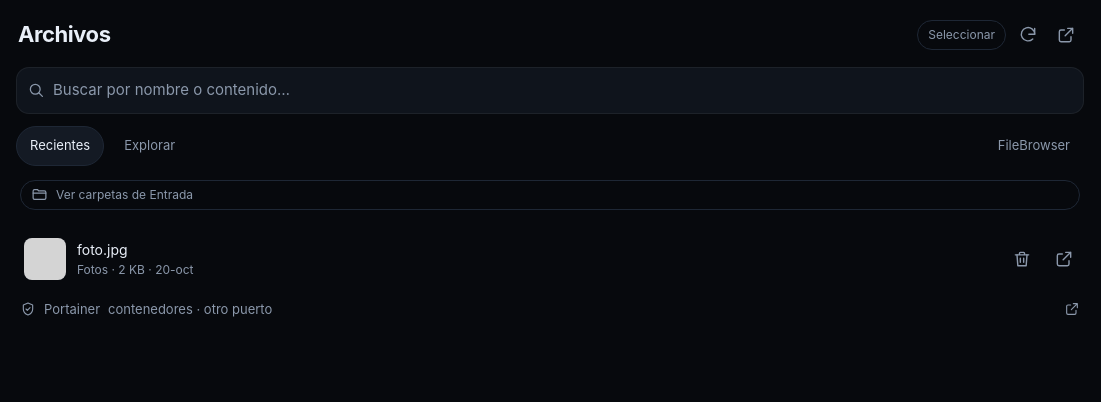
Test: Files · panel NAS nativo › «Todos» marca lo visible y «Ninguno» lo desmarca
This screenshot has width=1101, height=402.
expect the text "foto.jpg" is shown: met, box x1=77 y1=240 x2=128 y2=258
Step 1. Click the button "Seleccionar" → (962, 34), box x1=917 y1=20 x2=1006 y2=50
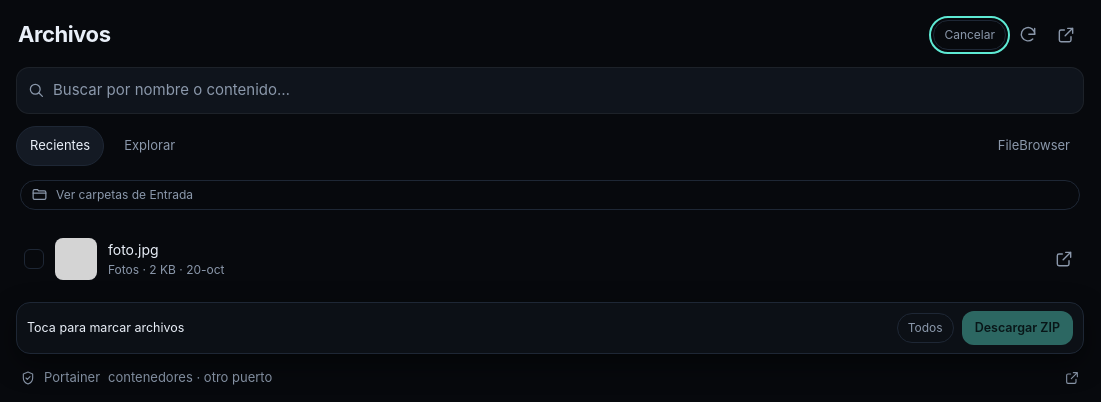
Step 2. Click the button "Todos" → (925, 328), box x1=897 y1=313 x2=954 y2=343
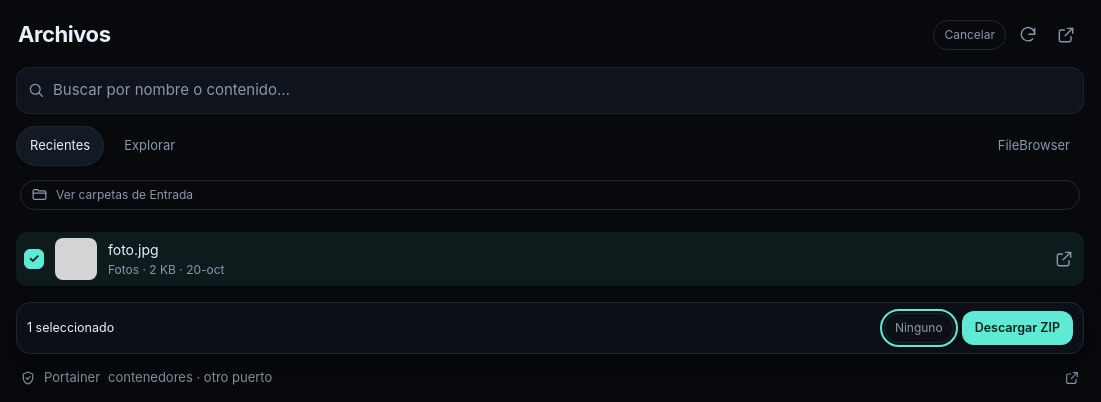
expect the text "1 seleccionado" is shown: met, box x1=27 y1=320 x2=114 y2=334
Step 3. Click the button "Ninguno" → (919, 328), box x1=884 y1=313 x2=954 y2=343
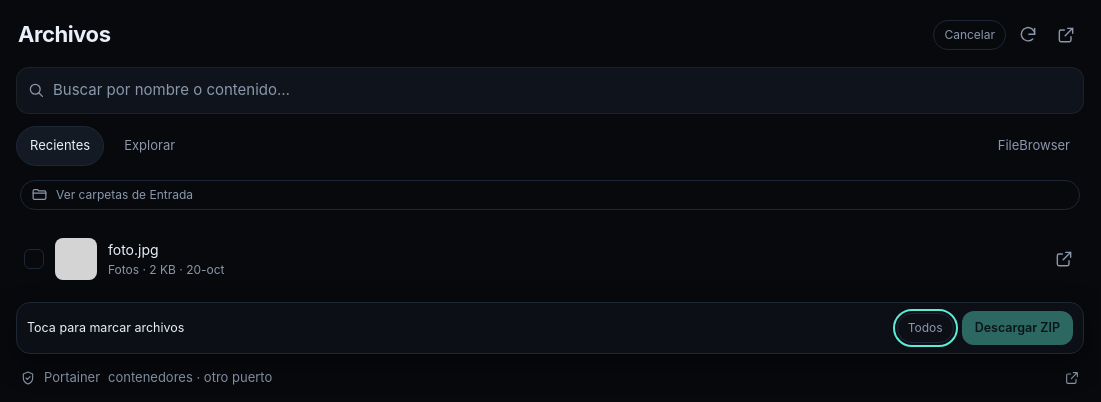
expect the text "Toca para marcar archivos" is shown: met, box x1=27 y1=320 x2=184 y2=334
